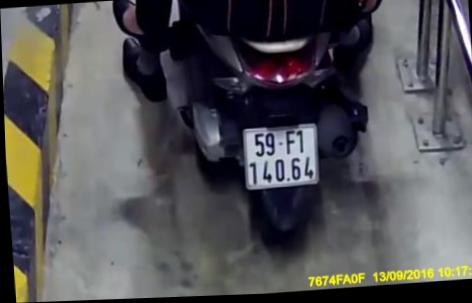LP: (236, 119, 321, 195)
